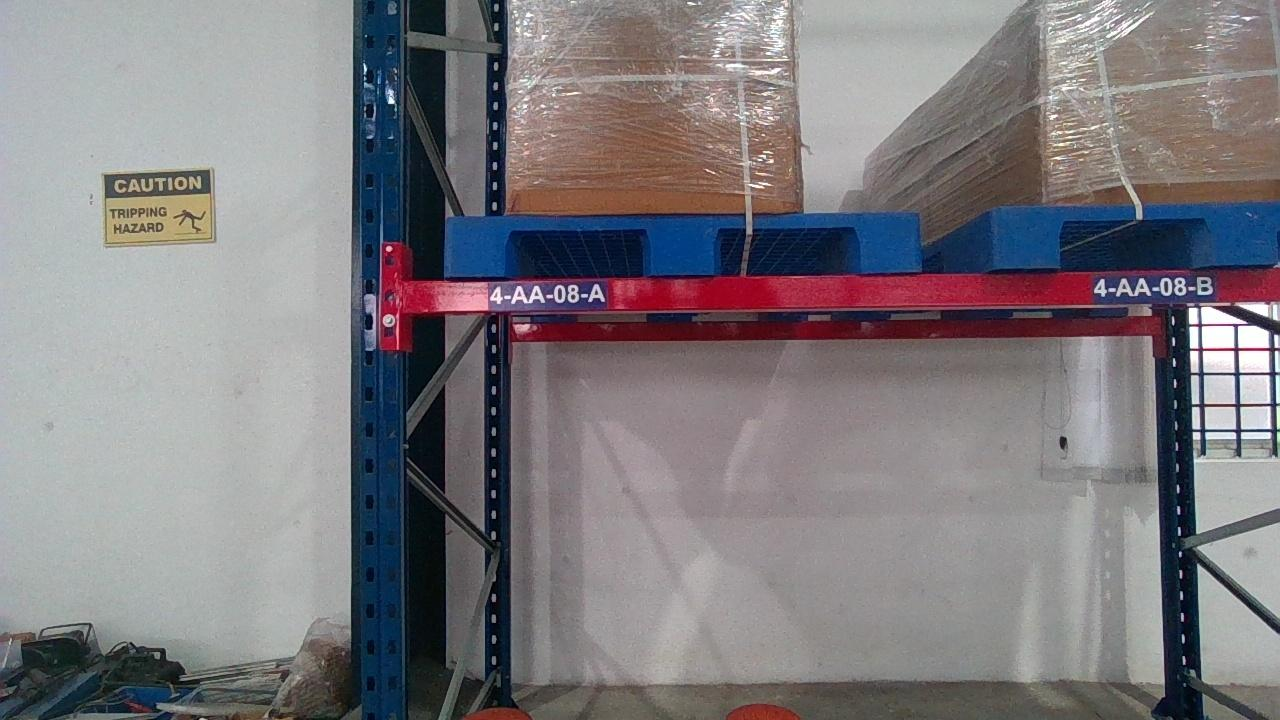h_rack: (403, 269, 1276, 311)
small_pallet: (442, 212, 920, 273), (993, 201, 1279, 266)
